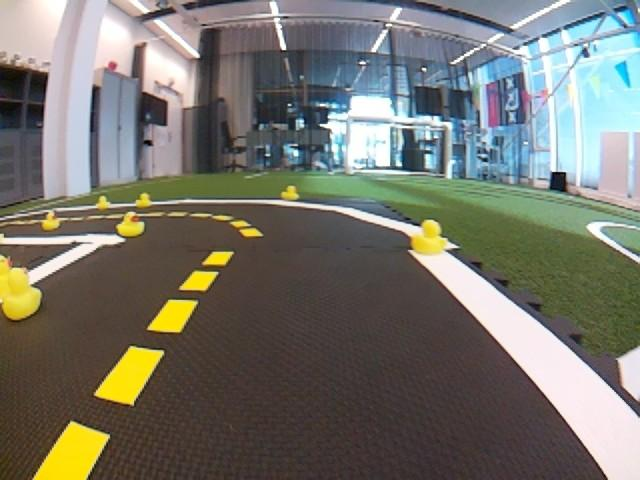Duckies: (0, 268, 42, 320), (410, 221, 446, 254), (116, 211, 144, 237), (0, 253, 16, 297), (40, 212, 60, 231), (281, 185, 299, 201), (135, 193, 151, 208), (96, 195, 111, 210)
